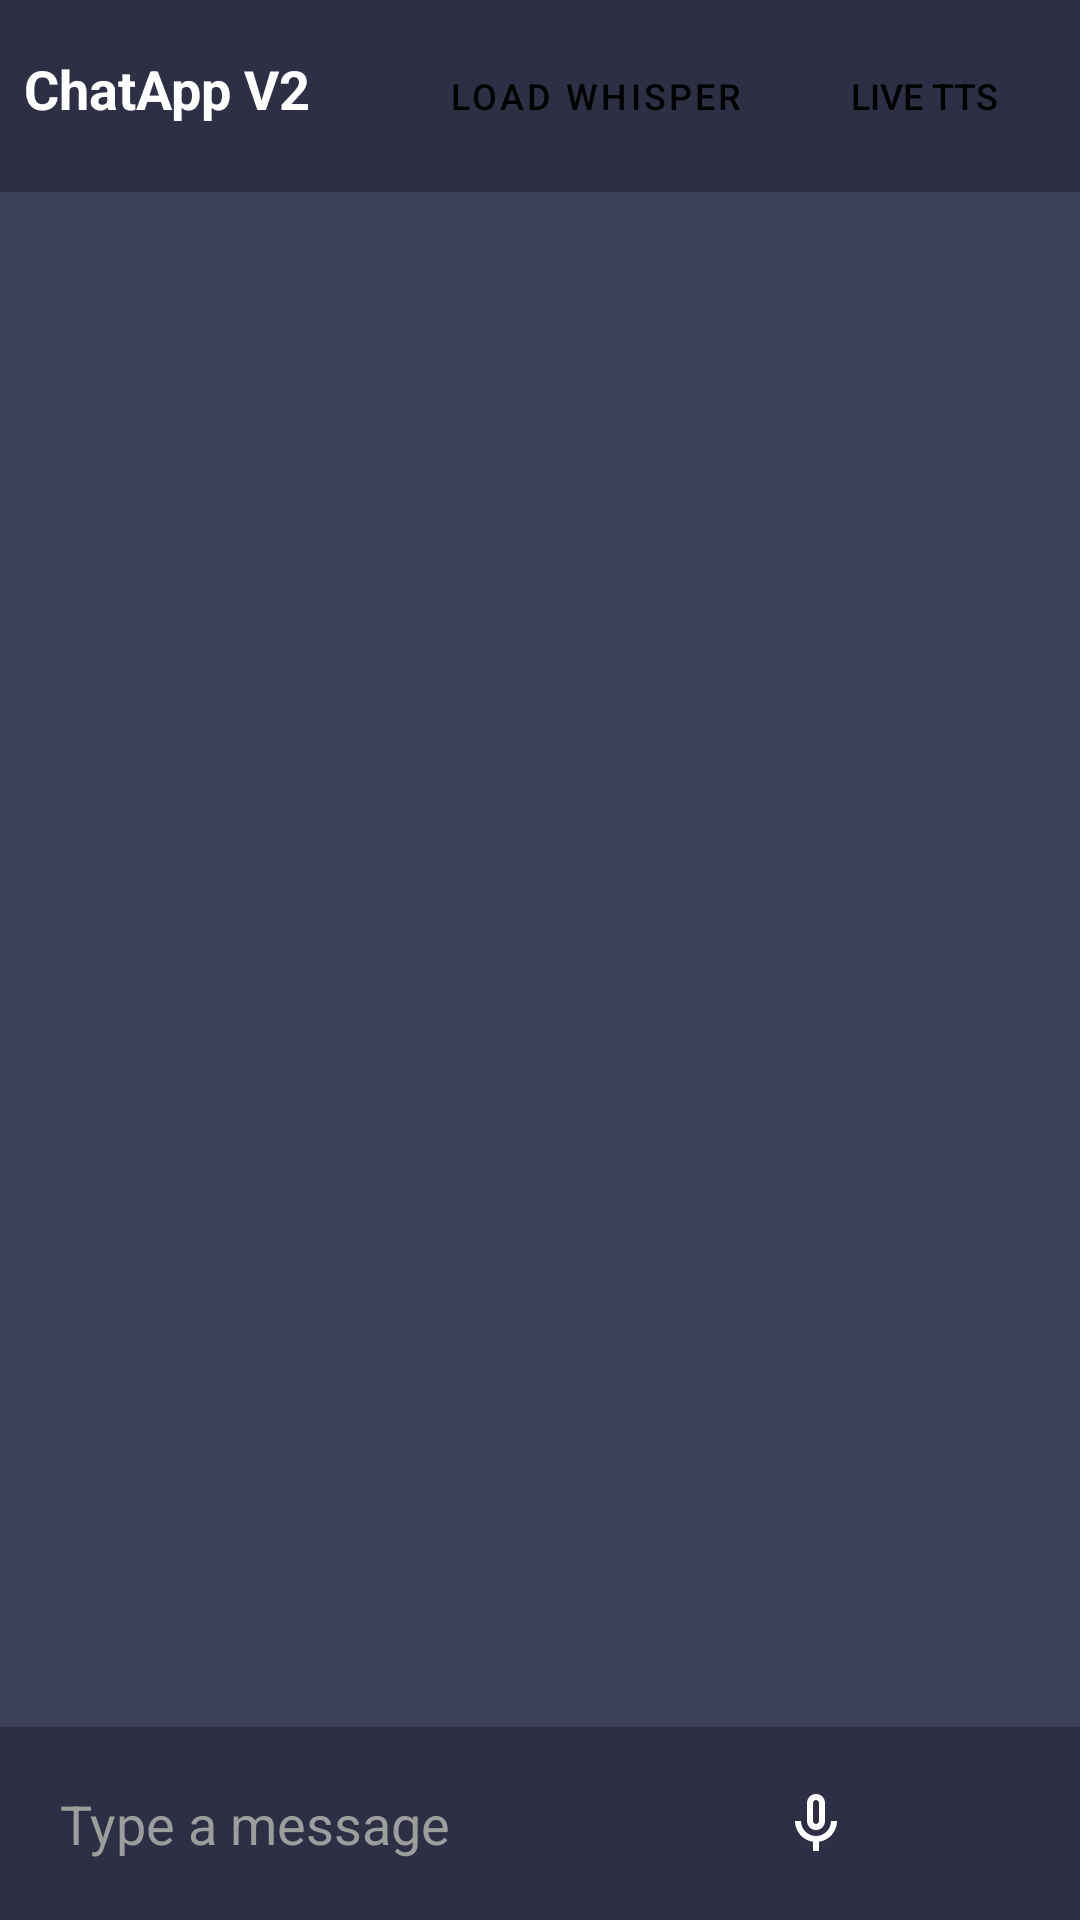

Locate icon controls on the screen. Image size 1080px×1920px, boxes as (x1, y1, x2, y2).
Record audio: (795, 1794, 837, 1851)
